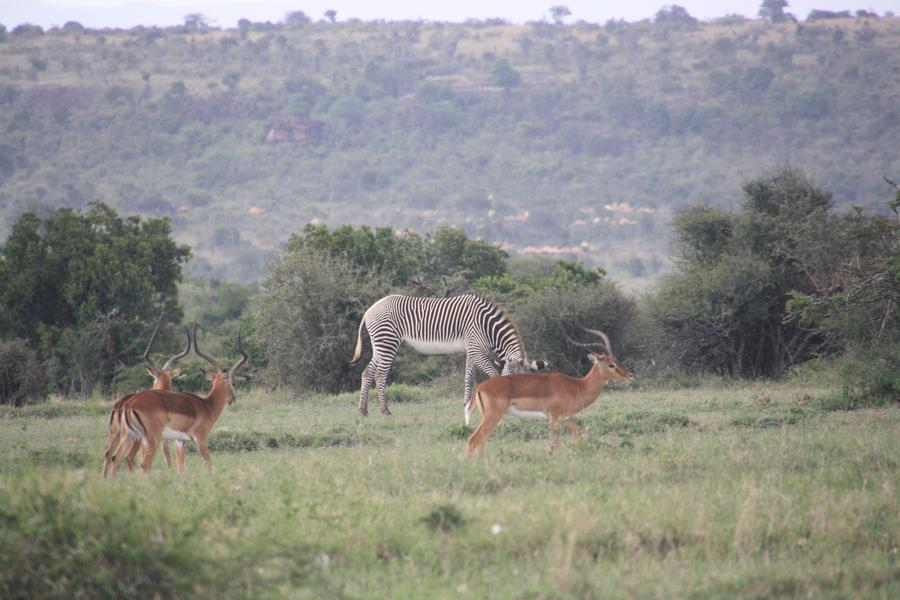zebra_grevys: (357, 283, 487, 348)
